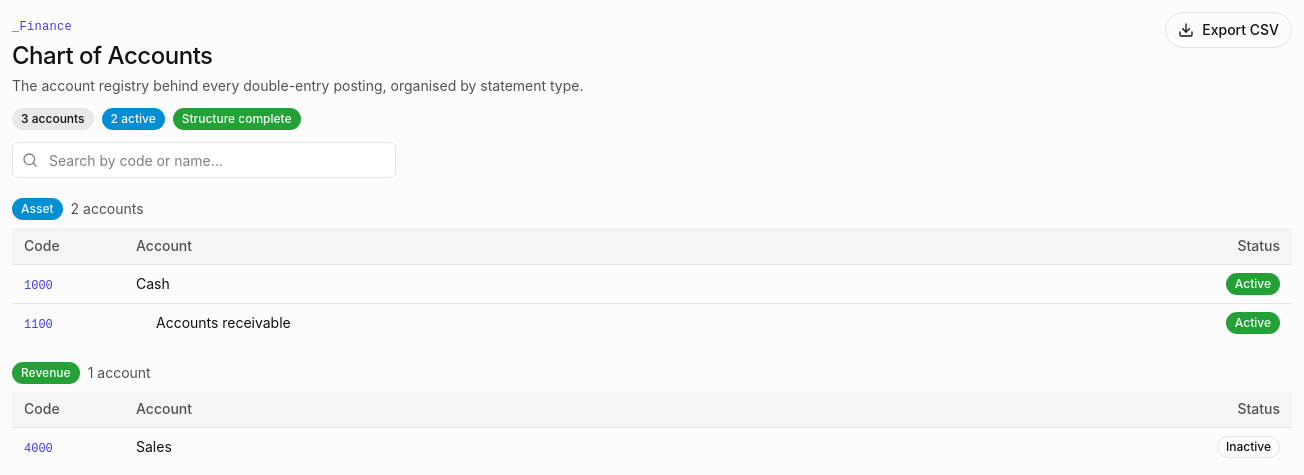
Test: ChartOfAccountsPage › shows the filtered match count in the group header while searching
This screenshot has width=1304, height=475.
Expected: the text "Cash" is shown, [136,274,170,292]
Type "cash" into the search field with placeholder "Search by code or name…" at coordinates (204, 160), box [12,142,396,178]
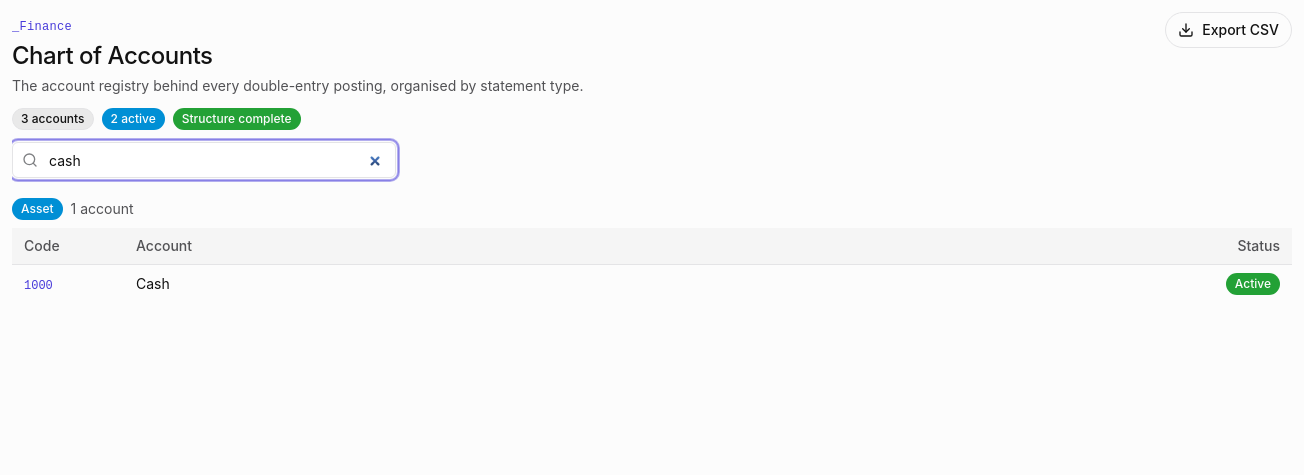
Result: the text "1 account" is shown at [70,199,134,219]
Result: the text "2 accounts" is gone
